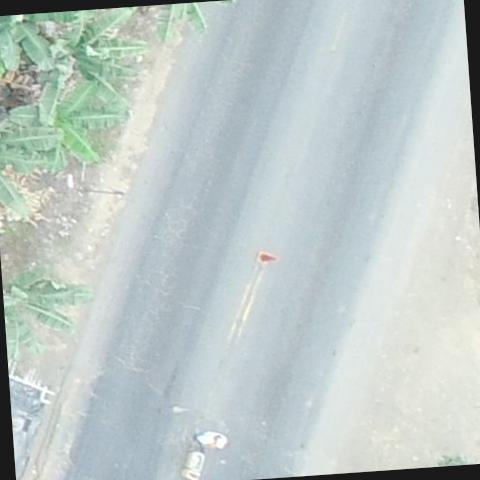Banana-plant: (0, 71, 136, 186), (24, 6, 156, 106)
